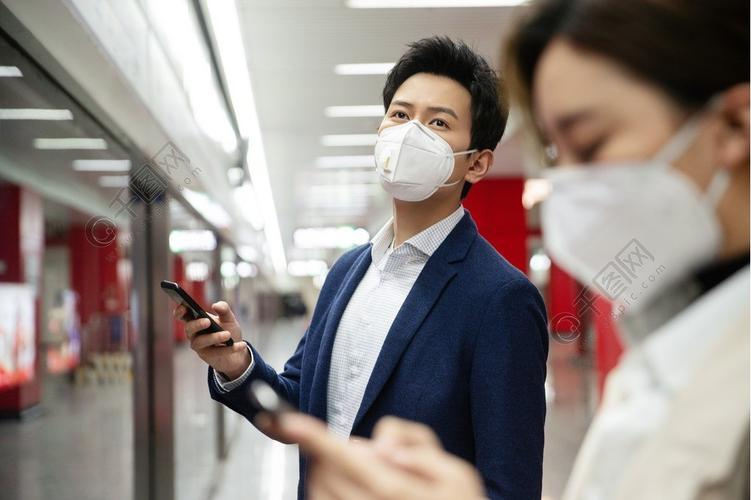mask: (372, 70, 490, 202)
